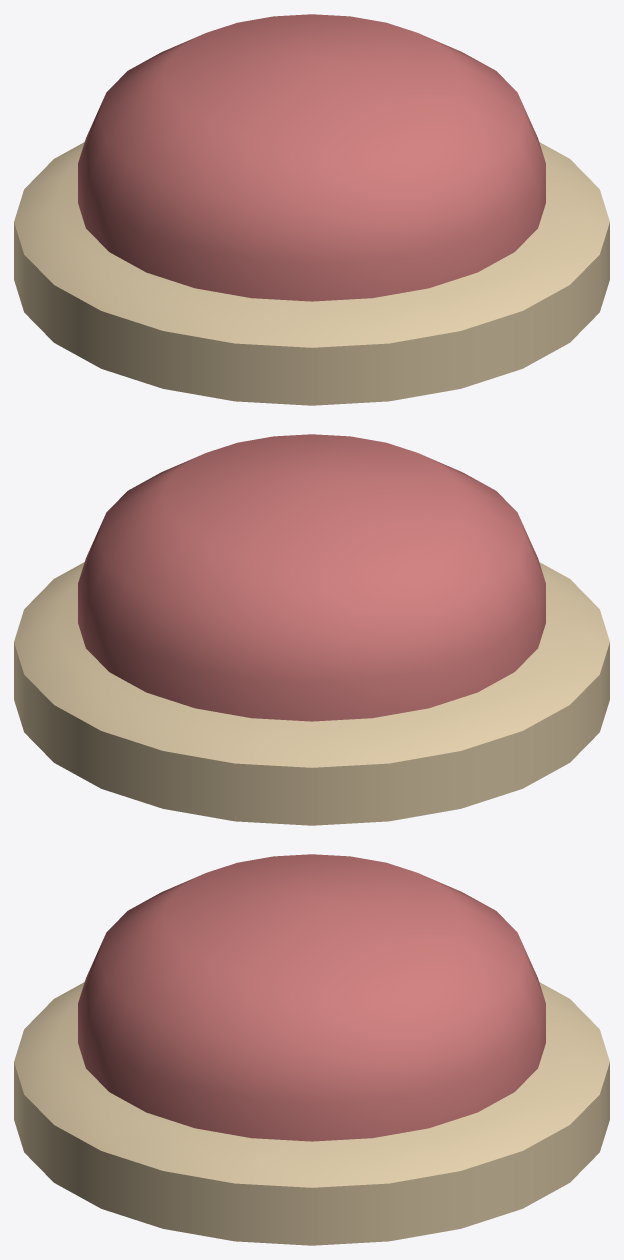
File: hub_button.gltf
3 renders of one model, top to bottom at view 1: azimuth 30°, elevation 25°; view 2: azimuth 150°, elevation 25°; view 3: azimuth 270°, elevation 25°, orthographic.
Parts seen in each view (by area): view 1: Body; view 2: Body; view 3: Body.
Part boxes in pixels (x1=…): Body: x1=14, y1=14, x2=609, y2=405; Body: x1=14, y1=434, x2=609, y2=825; Body: x1=14, y1=854, x2=609, y2=1245.
Bounding box in the file's own units: 0.56 × 0.23 × 0.56.
